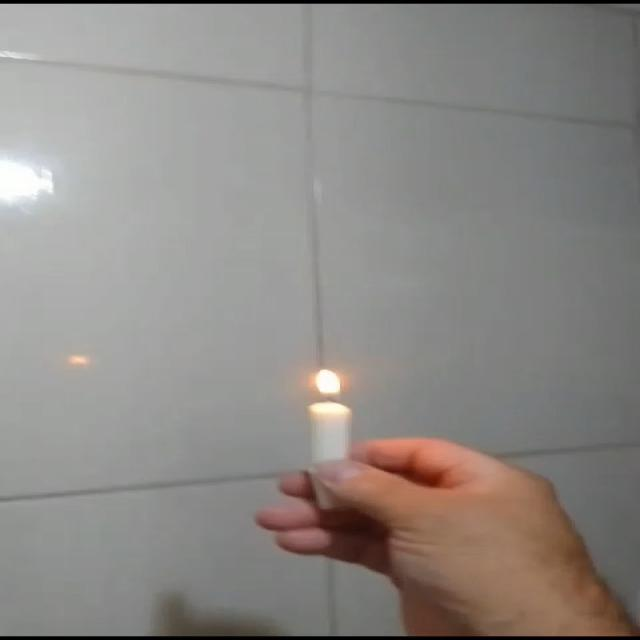fogo-ypXI: (309, 367, 350, 400)
